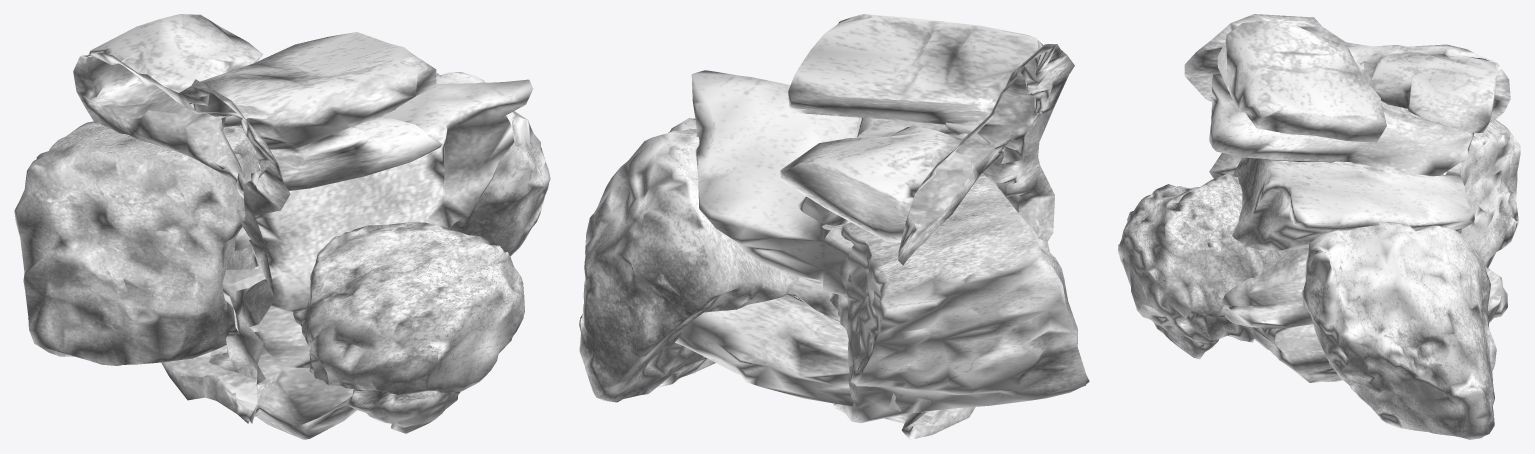
File: rock_pile.glb
3 renders of one model, left to right at view 1: azimuth 30°, elevation 25°; view 2: azimuth 150°, elevation 25°; view 3: azimuth 270°, elevation 25°, orthographic. The views are drawn at different scales.
Size of the model in its own units: 4.93 by 3.32 by 4.09.
4 materials, 4 textured.
